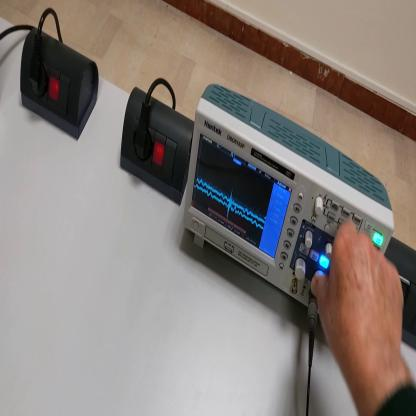hand: (313, 218, 406, 384)
oscilloscope: (183, 80, 396, 315)
socket: (17, 29, 103, 142), (117, 87, 195, 209)
